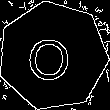O_N: (29, 29, 77, 83)
